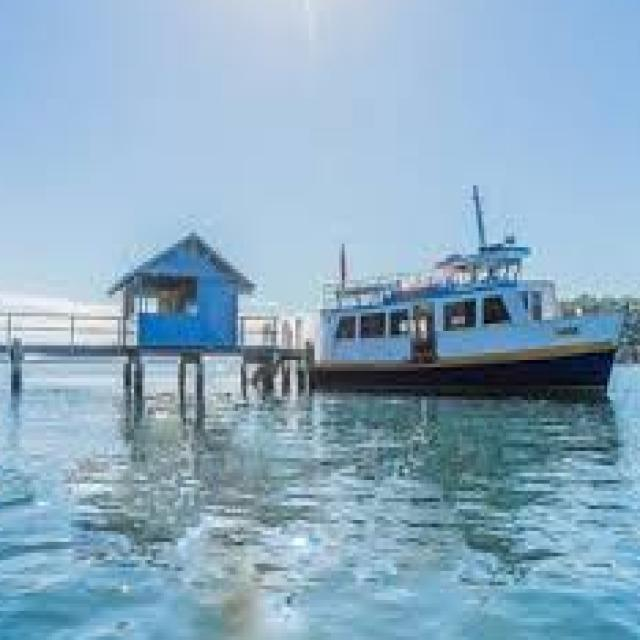houseboat: (298, 192, 640, 392)
